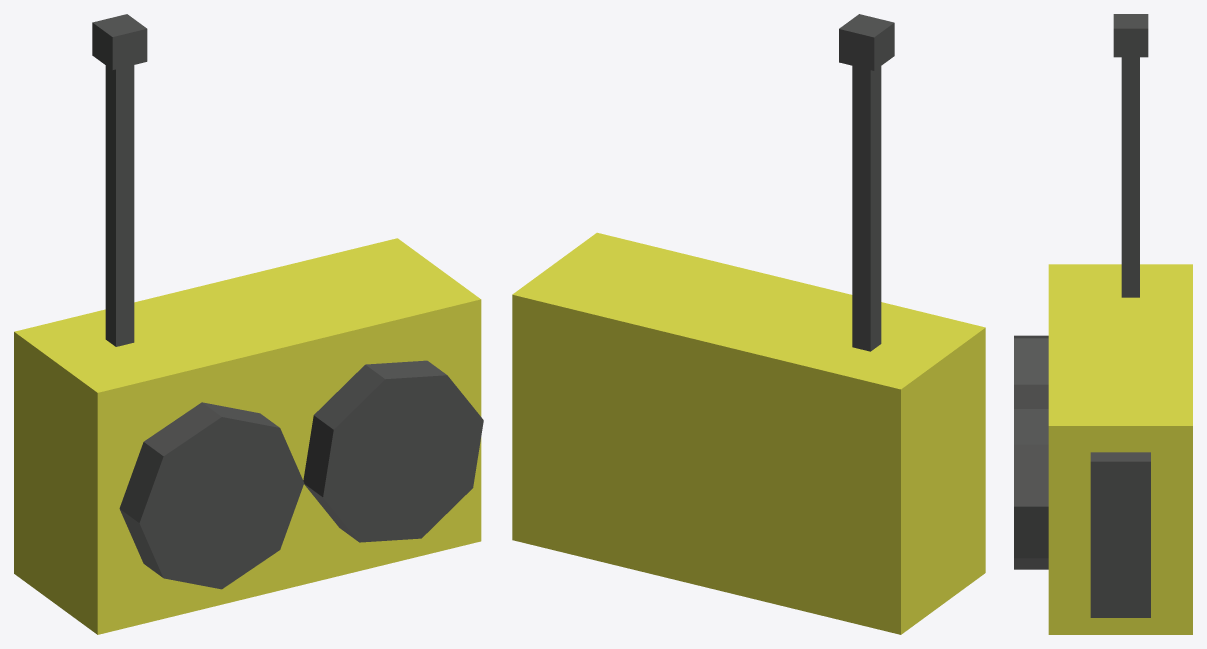
Rendered from prop_radio1_mesh_01_v1.glb.
3 renders of one model, left to right at view 1: azimuth 30°, elevation 25°; view 2: azimuth 150°, elevation 25°; view 3: azimuth 270°, elevation 25°, orthographic. The views are drawn at different scales.
Visible parts, largest first — view 1: Radio; view 2: Radio; view 3: Radio.
Part boxes in pixels (x1,y1,x2,y2): Radio: [14, 14, 483, 634]; Radio: [512, 14, 985, 634]; Radio: [1014, 14, 1192, 634].
Bounding box in the file's own units: 0.9213 × 1.21 × 0.4075.
